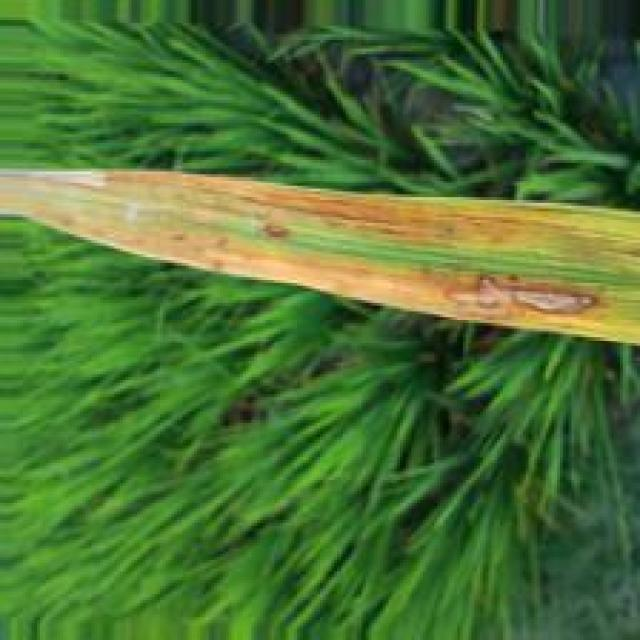Leaf_Blast: (432, 272, 607, 317)
